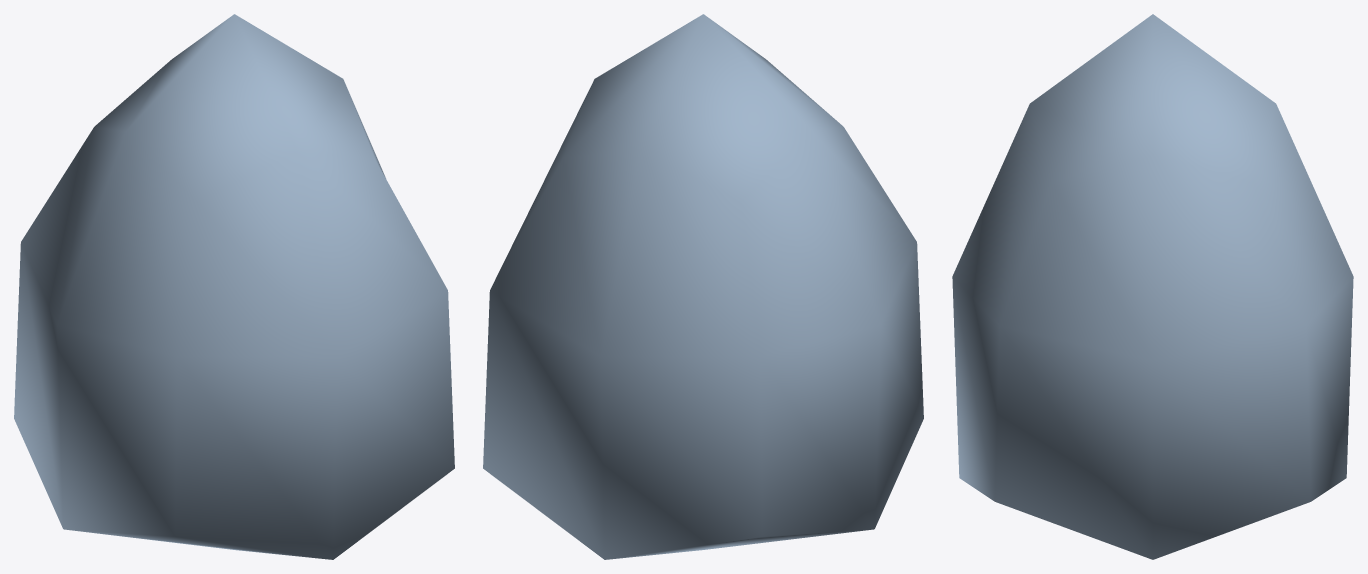
The model's file is Pedra.fbx.
3 views of the same model, side by side, from view 1: azimuth 30°, elevation 25°; view 2: azimuth 150°, elevation 25°; view 3: azimuth 270°, elevation 25° (orthographic). The views are drawn at different scales.
Visible parts, largest first — view 1: Pedra1; view 2: Pedra1; view 3: Pedra1.
Part boxes in pixels (x1,y1,x2,y2): Pedra1: (14, 14, 454, 559); Pedra1: (483, 14, 923, 559); Pedra1: (952, 14, 1353, 559).
Bounding box in the file's own units: 33.23 × 33.23 × 48.01.
